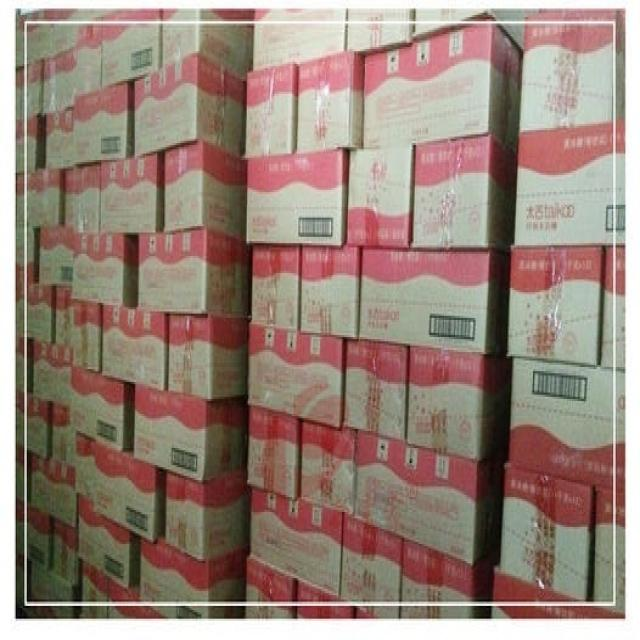box: (513, 11, 627, 245), (363, 13, 524, 151), (353, 431, 509, 565), (358, 250, 511, 356), (509, 358, 625, 489), (500, 461, 595, 604), (412, 134, 517, 254), (405, 348, 512, 461), (507, 247, 606, 367), (135, 53, 246, 158), (133, 386, 249, 482), (248, 322, 347, 429), (74, 433, 167, 544), (246, 149, 350, 247), (249, 489, 343, 597), (137, 228, 249, 318), (139, 531, 249, 617), (164, 141, 247, 241), (400, 538, 501, 619), (165, 469, 251, 563), (347, 143, 416, 250), (296, 51, 366, 154), (168, 314, 249, 401), (339, 512, 404, 619), (490, 570, 627, 619), (343, 339, 410, 439), (162, 9, 254, 81), (299, 243, 363, 339), (101, 305, 170, 390), (253, 9, 348, 70), (99, 151, 165, 233), (71, 228, 139, 307), (78, 503, 140, 589), (71, 369, 135, 452), (74, 83, 135, 169), (302, 420, 357, 514), (247, 407, 303, 499), (246, 62, 299, 156), (43, 36, 102, 115), (102, 11, 162, 87), (251, 245, 302, 329), (594, 484, 625, 614), (30, 452, 79, 529), (245, 553, 298, 619), (346, 9, 415, 58), (600, 247, 625, 371), (29, 563, 80, 619), (16, 171, 66, 228), (16, 499, 55, 572), (33, 339, 73, 407), (50, 9, 103, 60), (294, 578, 358, 619), (416, 9, 492, 43), (16, 388, 52, 459), (66, 164, 100, 235), (16, 286, 56, 343), (15, 6, 50, 68), (39, 224, 74, 286), (72, 303, 103, 373), (52, 521, 83, 587), (108, 578, 158, 617), (45, 109, 74, 171), (15, 62, 44, 122), (16, 115, 45, 175), (80, 565, 108, 619), (52, 403, 75, 467), (16, 228, 40, 284), (54, 288, 74, 346), (16, 446, 32, 508), (16, 337, 33, 393), (16, 550, 32, 608)
